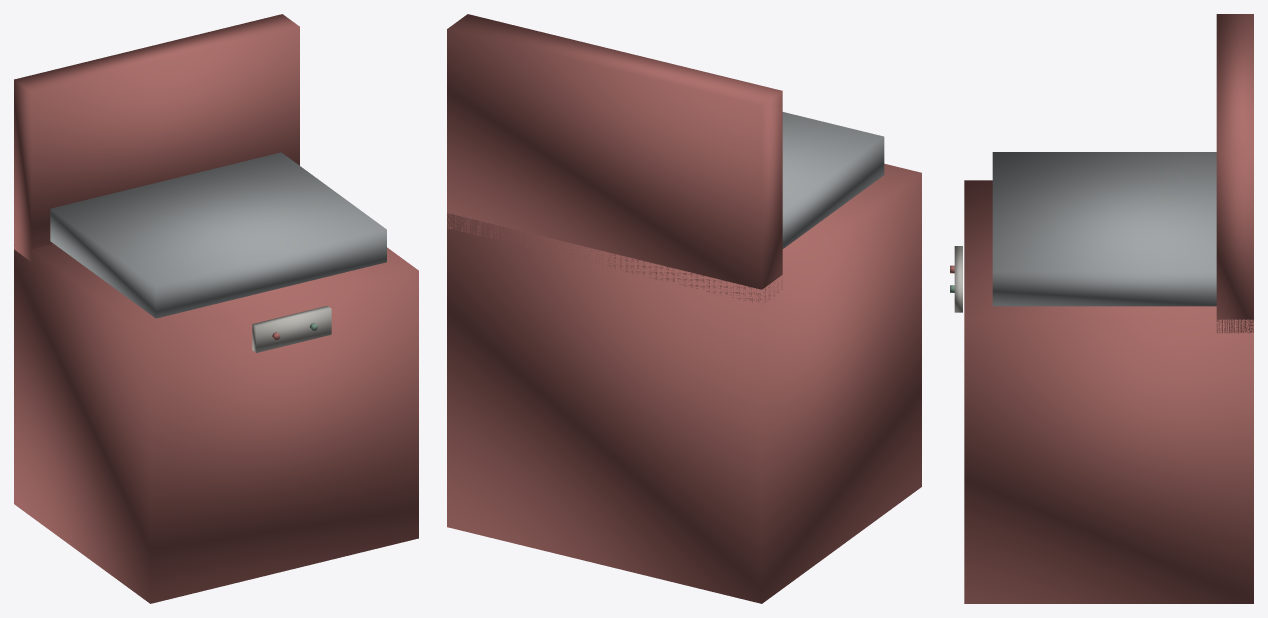
The model's file is parts_washer__deep.glb.
The picture shows the model from 3 angles, left to right: view 1: azimuth 30°, elevation 25°; view 2: azimuth 150°, elevation 25°; view 3: azimuth 270°, elevation 25°; orthographic projection. The views are drawn at different scales.
Visible parts, largest first — view 1: world; view 2: world; view 3: world.
Part boxes in pixels (left/top/right/bottom): world: left=14, top=14, right=418, bottom=603; world: left=447, top=14, right=921, bottom=603; world: left=950, top=14, right=1253, bottom=603.
Bounding box in the file's own units: 0.86 × 1.3 × 0.7942.
